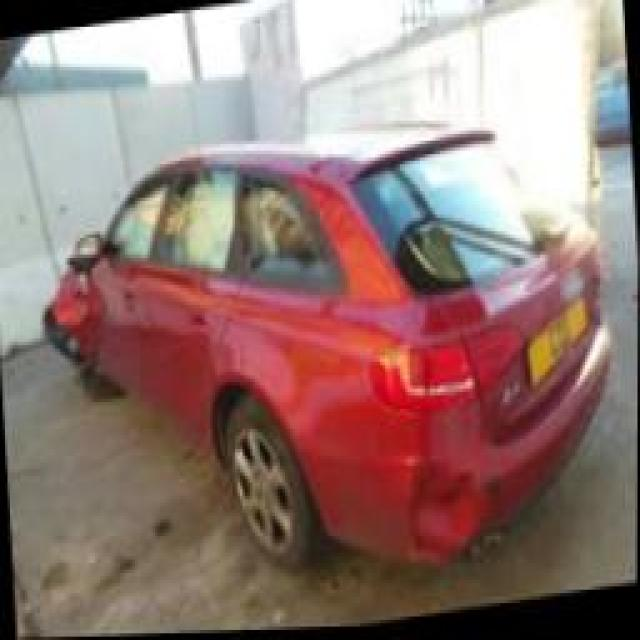Fender: (37, 258, 106, 380)
